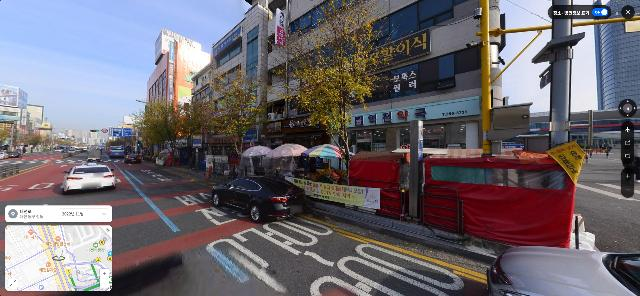ginkgo: (268, 1, 394, 187), (204, 62, 267, 179), (135, 96, 183, 168)
